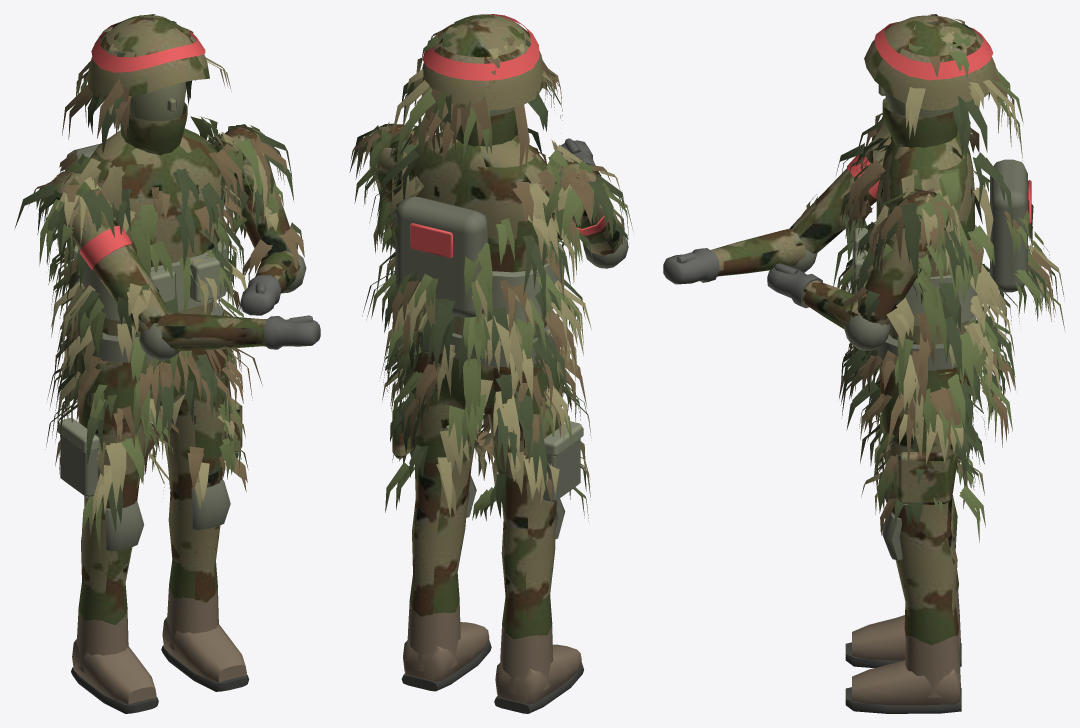
The model's file is ghillie.glb.
3 renders of one model, left to right at view 1: azimuth 30°, elevation 25°; view 2: azimuth 150°, elevation 25°; view 3: azimuth 270°, elevation 25°, orthographic. The views are drawn at different scales.
Parts seen in each view (by area): view 1: body, legL, legR; view 2: body, legL, legR; view 3: body, legR, legL.
Part boxes in pixels (x1=…): body: x1=15, y1=14, x2=320, y2=439; legL: x1=45, y1=349, x2=181, y2=713; legR: x1=141, y1=348, x2=248, y2=691; body: x1=349, y1=14, x2=633, y2=471; legL: x1=464, y1=367, x2=591, y2=713; legR: x1=382, y1=350, x2=495, y2=691; body: x1=663, y1=14, x2=1065, y2=466; legR: x1=845, y1=360, x2=986, y2=713; legL: x1=845, y1=349, x2=982, y2=667.
Size of the model in its own units: 0.8303 by 1.93 by 1.06.
Materials: 13 (1 with a texture image).
